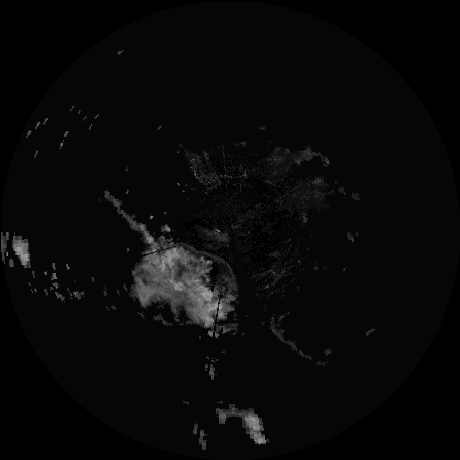frontgust: (270, 316, 290, 345), (224, 261, 235, 287)
